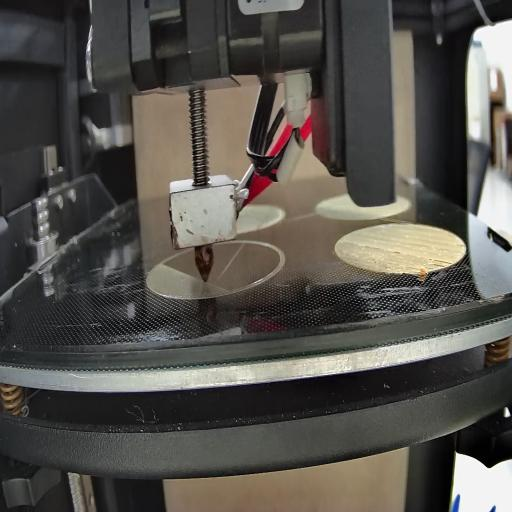under_extrusion: (343, 238, 401, 258), (426, 254, 454, 272), (453, 237, 465, 252)
